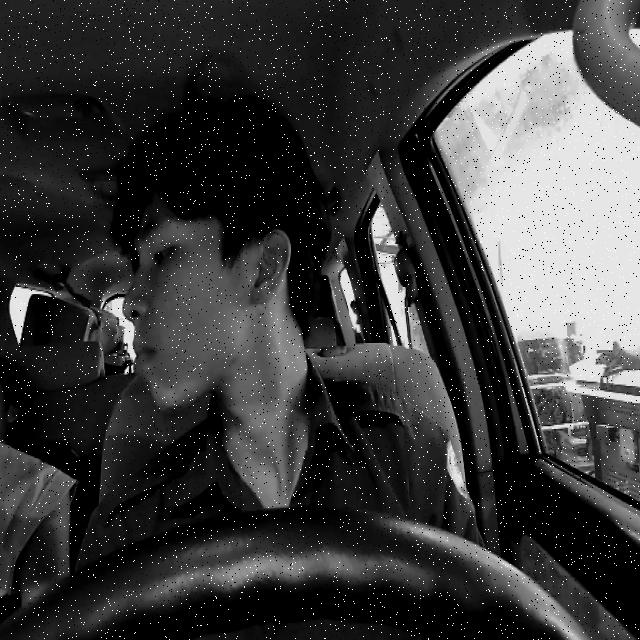seeing_left: (119, 189, 292, 415)
